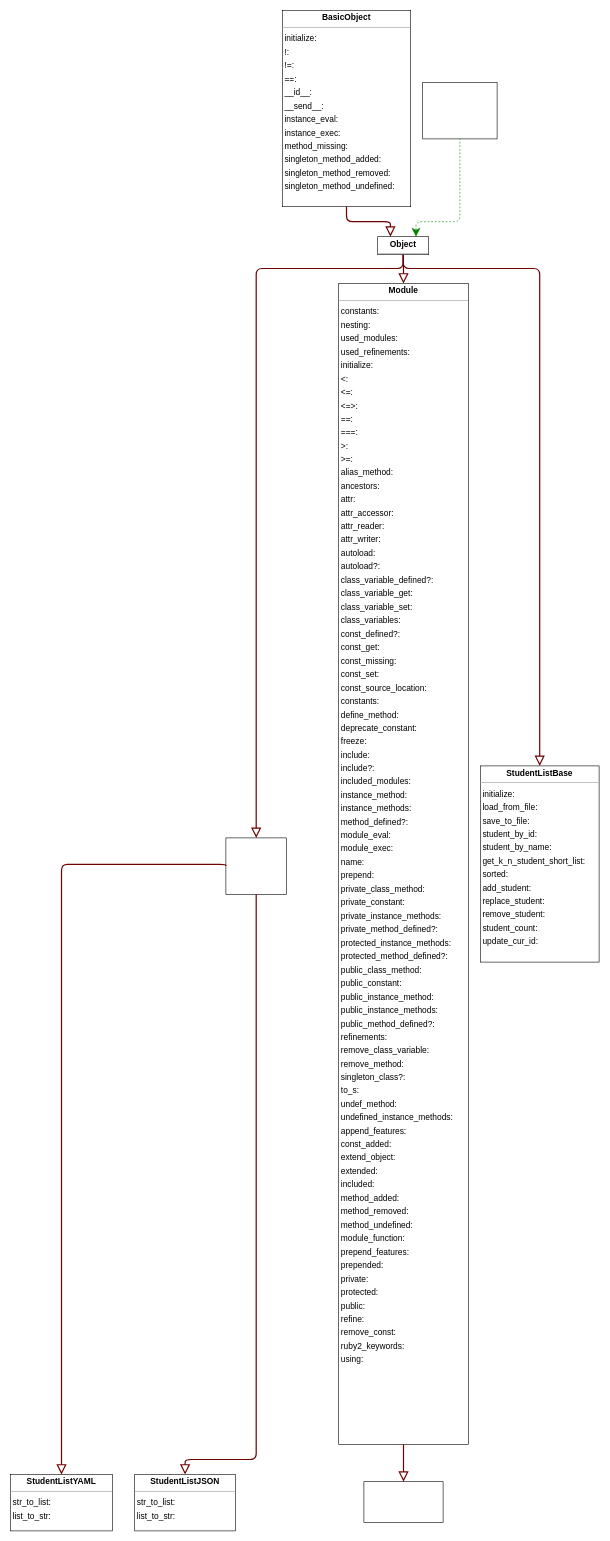
This 610x1541 diagram has some shape labels left out. The centre of each missing label's shape, as x and y in pixels:
Class json_creatable?:: point (403, 1501)
Kernel pretty_inspect: pp:: point (459, 110)
Strategy str_to_list: list_to_str:: point (255, 865)
